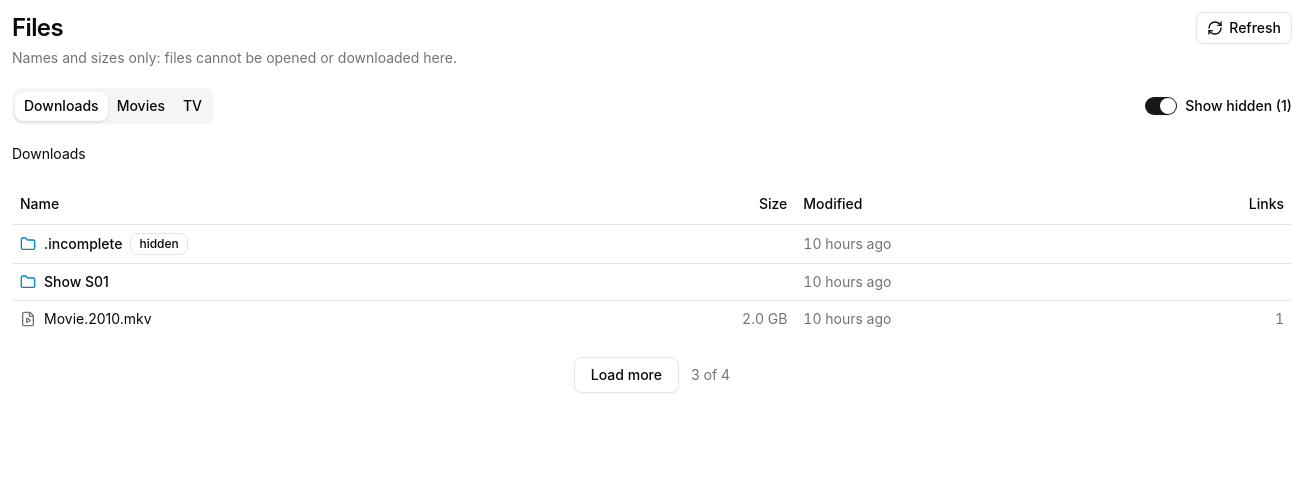
Test case: Files › clears a load-more error when a retry succeeds
Click the button "Load more". click: (626, 374)
box: [574, 356, 679, 392]
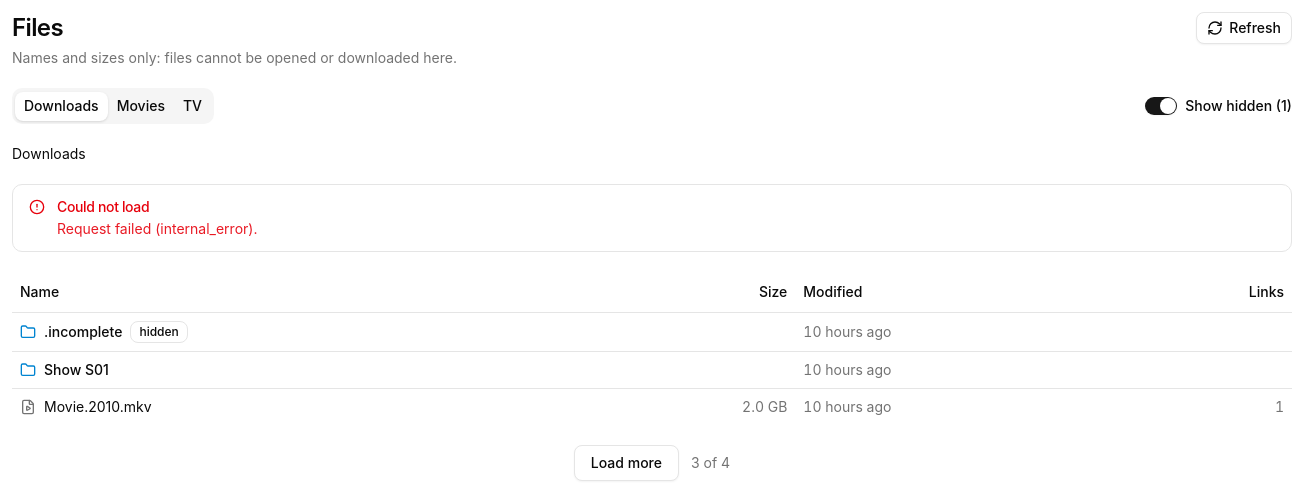
Result: the text "Request failed (internal_error)." is shown at [57, 220, 257, 237]
Click the button "Load more". click: (626, 462)
box: [574, 444, 679, 480]
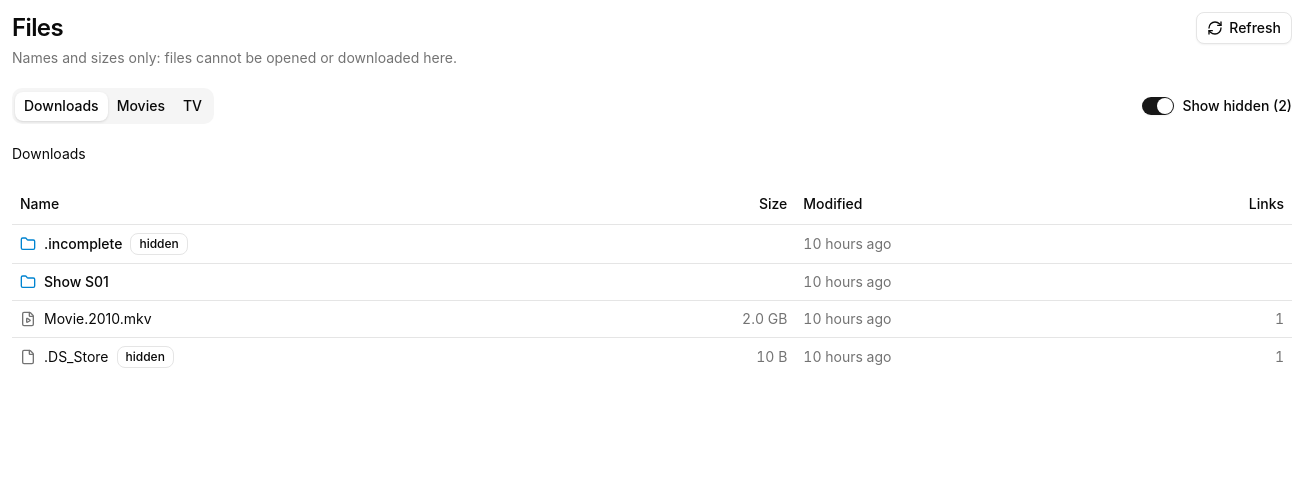
Result: the text ".DS_Store" is shown at [44, 346, 108, 366]
Result: the text "Request failed (internal_error)." is gone
